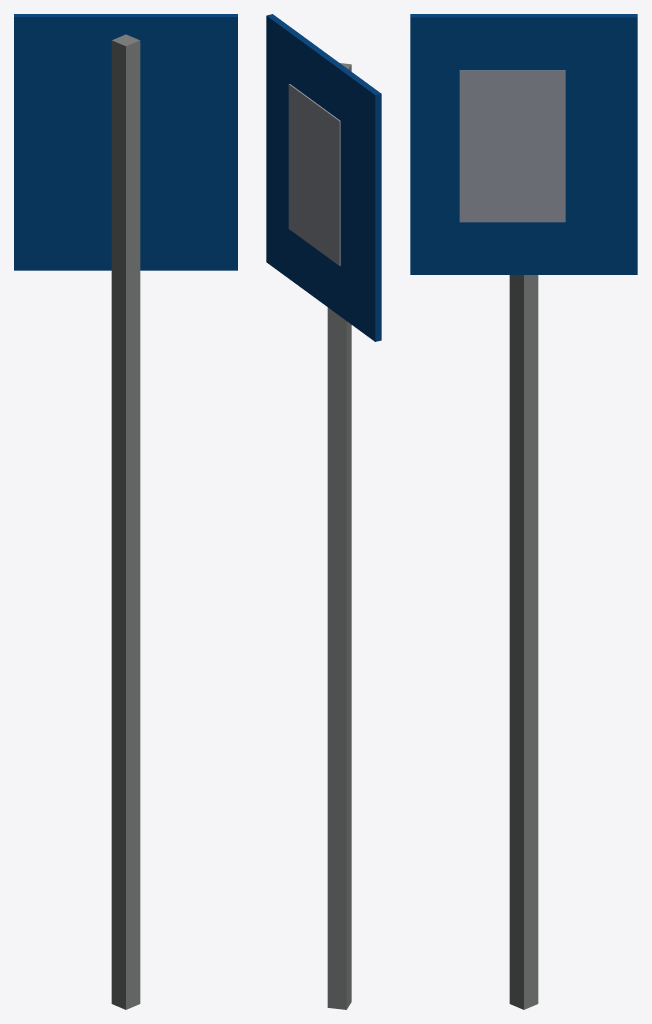
File: SM_Prop_road_laybysign_0_LOD2.glb
3 renders of one model, left to right at view 1: azimuth 90°, elevation 25°; view 2: azimuth 210°, elevation 25°; view 3: azimuth 270°, elevation 25°, orthographic. The views are drawn at different scales.
Visible parts, largest first — view 1: SM_Prop_road_laybysign_0_LOD2; view 2: SM_Prop_road_laybysign_0_LOD2; view 3: SM_Prop_road_laybysign_0_LOD2.
Part boxes in pixels (left/top/right/bottom): SM_Prop_road_laybysign_0_LOD2: left=14, top=14, right=237, bottom=1009; SM_Prop_road_laybysign_0_LOD2: left=266, top=14, right=381, bottom=1009; SM_Prop_road_laybysign_0_LOD2: left=410, top=14, right=637, bottom=1009.
Size of the model in its own units: 0.102 by 2.9 by 0.6.
